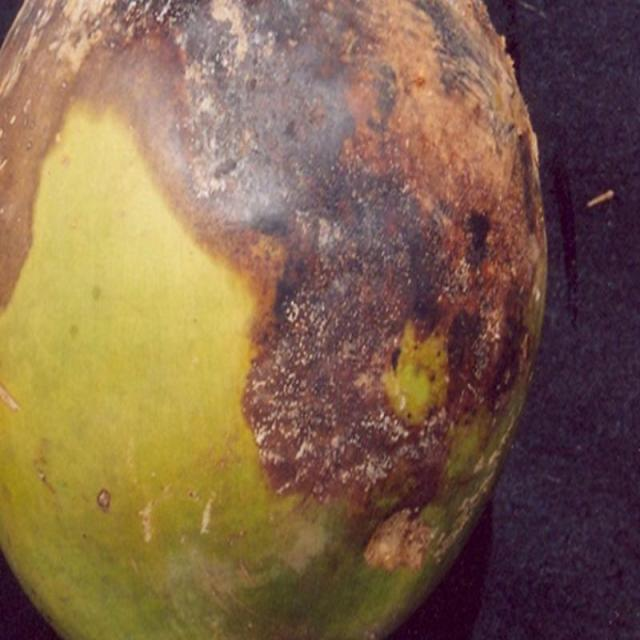damaged: (0, 0, 546, 639)
